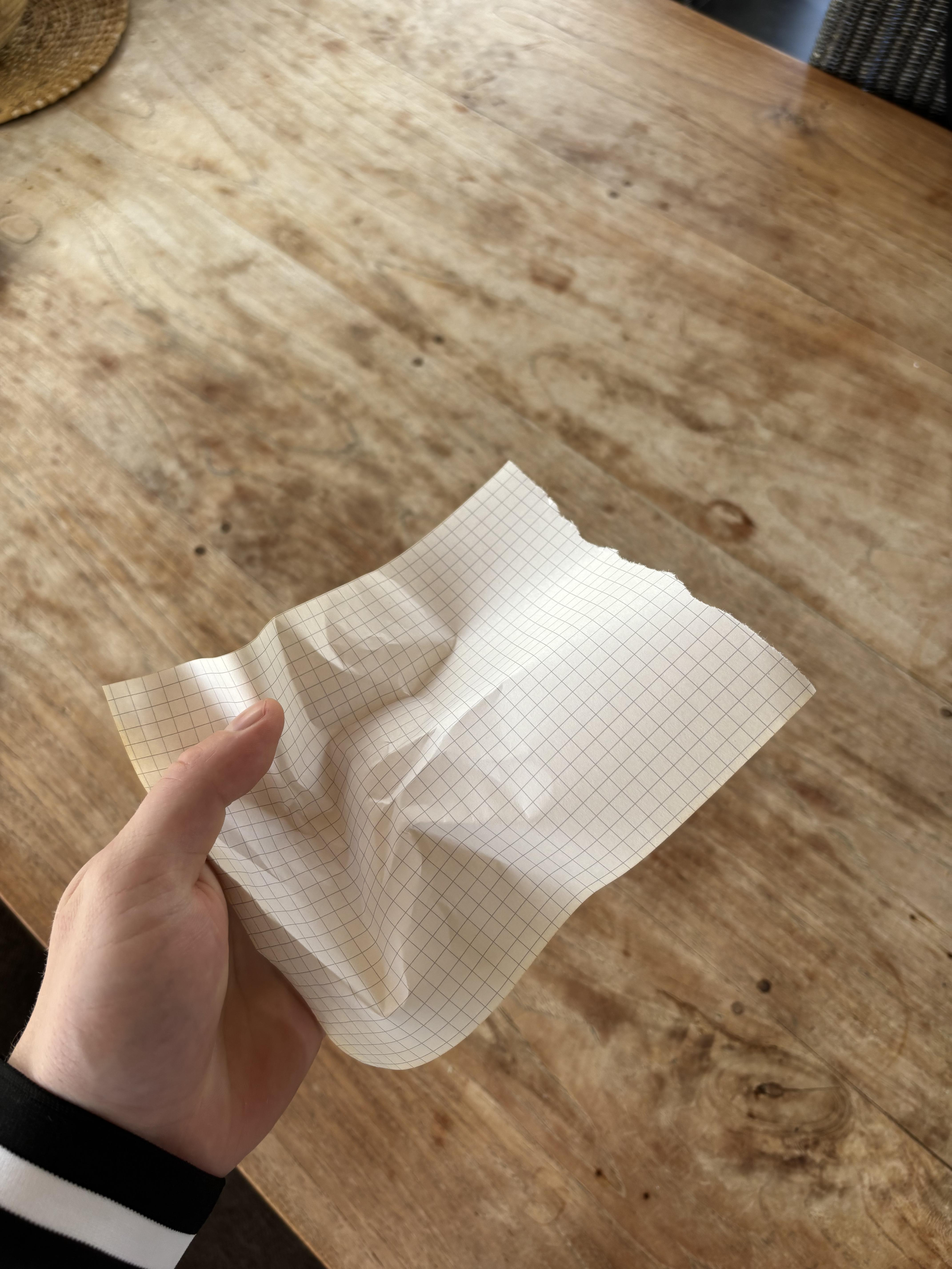Paper: (109, 460, 817, 1066)
